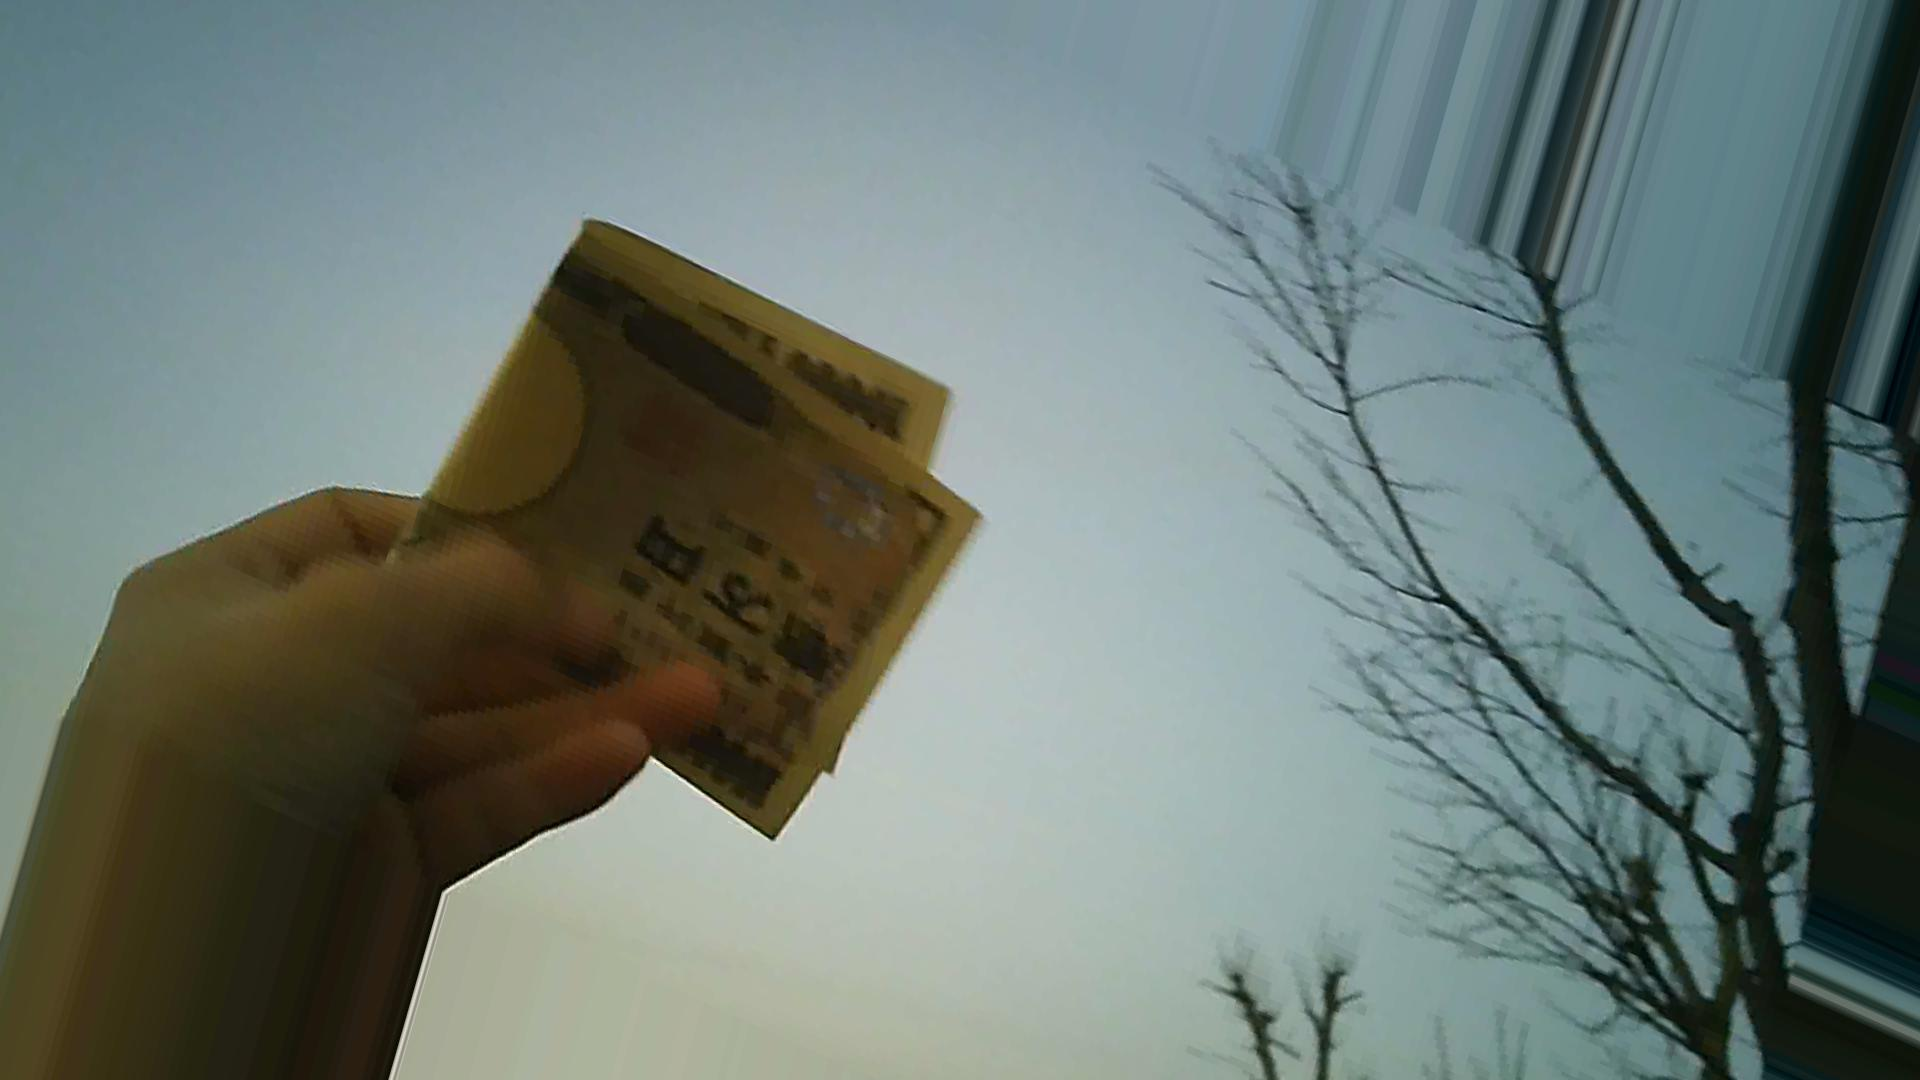10,000 Yen: (349, 224, 982, 828)
